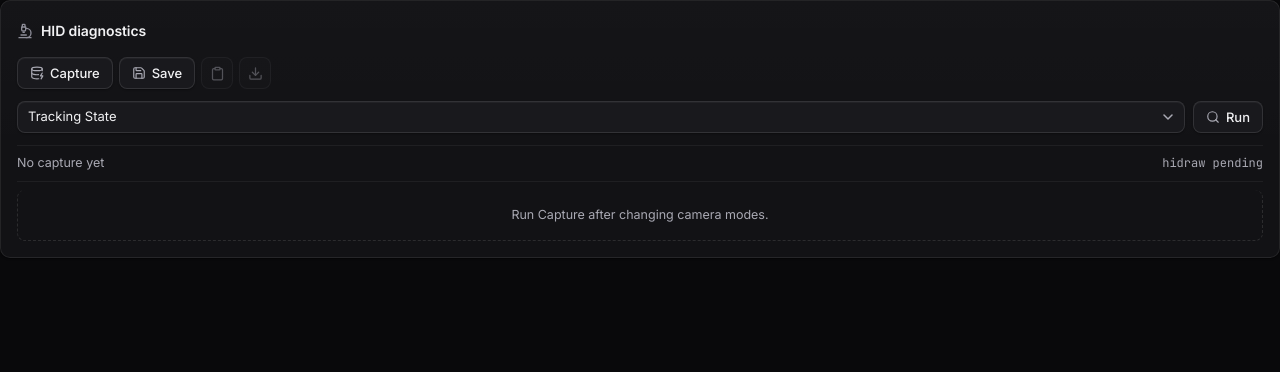
Test: HidDiagnosticsPanel › captures and displays raw HID bit data
This screenshot has width=1280, height=372.
Step 1. Click the button "Capture" → (65, 73), box [17,57,113,89]
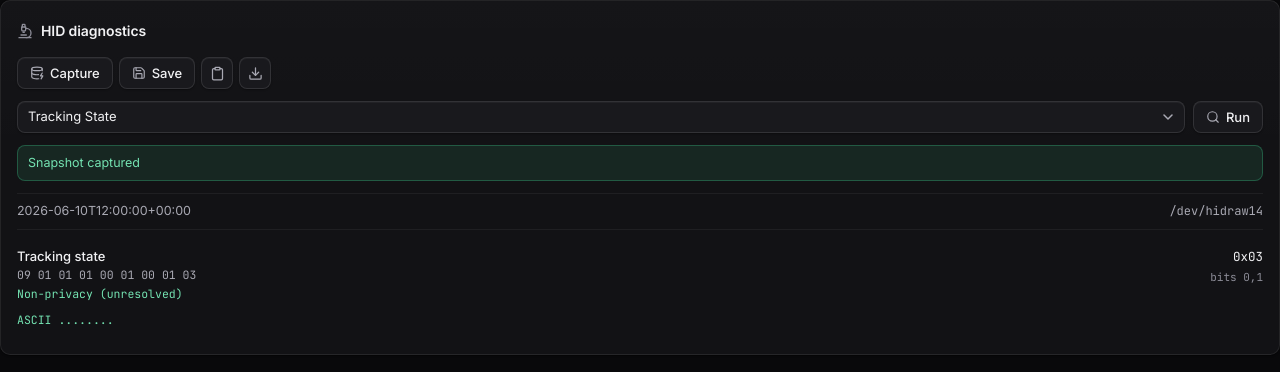
Expected: the text "tracking state" is shown, [17,248,105,264]
Expected: the text "0x03" is shown, [1233,248,1263,265]
Expected: the text "ASCII ........" is shown, [17,312,114,327]
